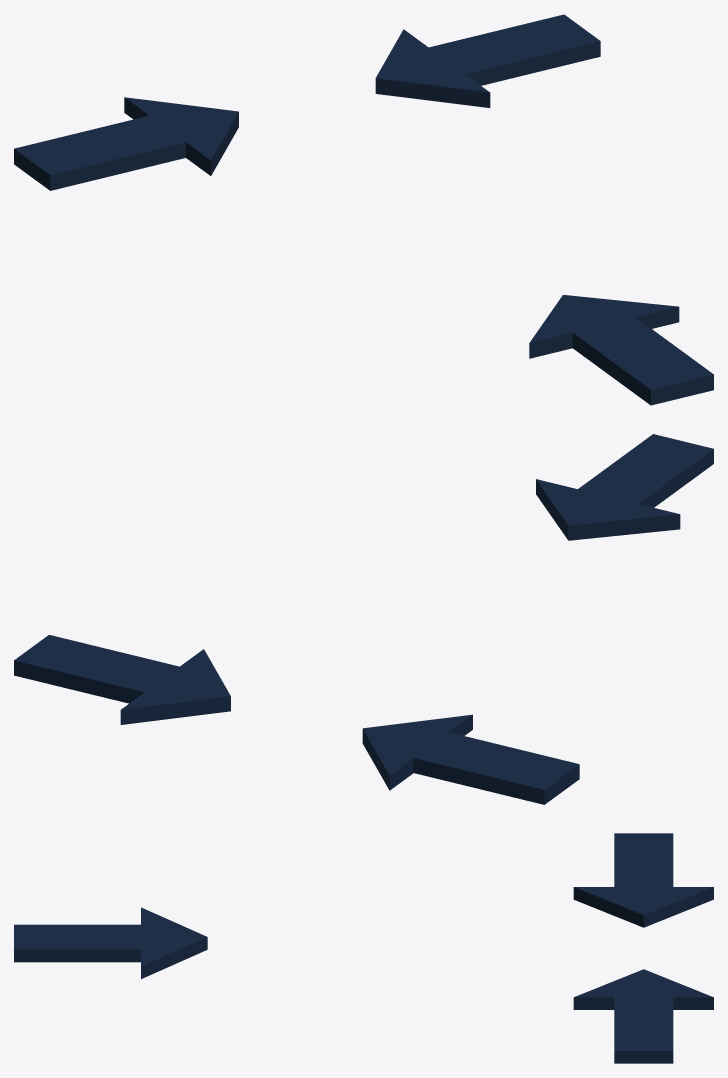
The model's file is accessi.obj.
The picture shows the model from 3 angles, top to bottom: view 1: azimuth 30°, elevation 25°; view 2: azimuth 150°, elevation 25°; view 3: azimuth 270°, elevation 25°; orthographic projection. The views are drawn at different scales.
Parts seen in each view (by area): view 1: AR 2 ACCESSI; view 2: AR 2 ACCESSI; view 3: AR 2 ACCESSI.
Boxes of the visible parts, x1,y1,x2,y2 form: AR 2 ACCESSI: (14,14,713,405); AR 2 ACCESSI: (14,434,713,804); AR 2 ACCESSI: (14,833,713,1063).
Bounding box in the file's own units: 367 × 10 × 499.
